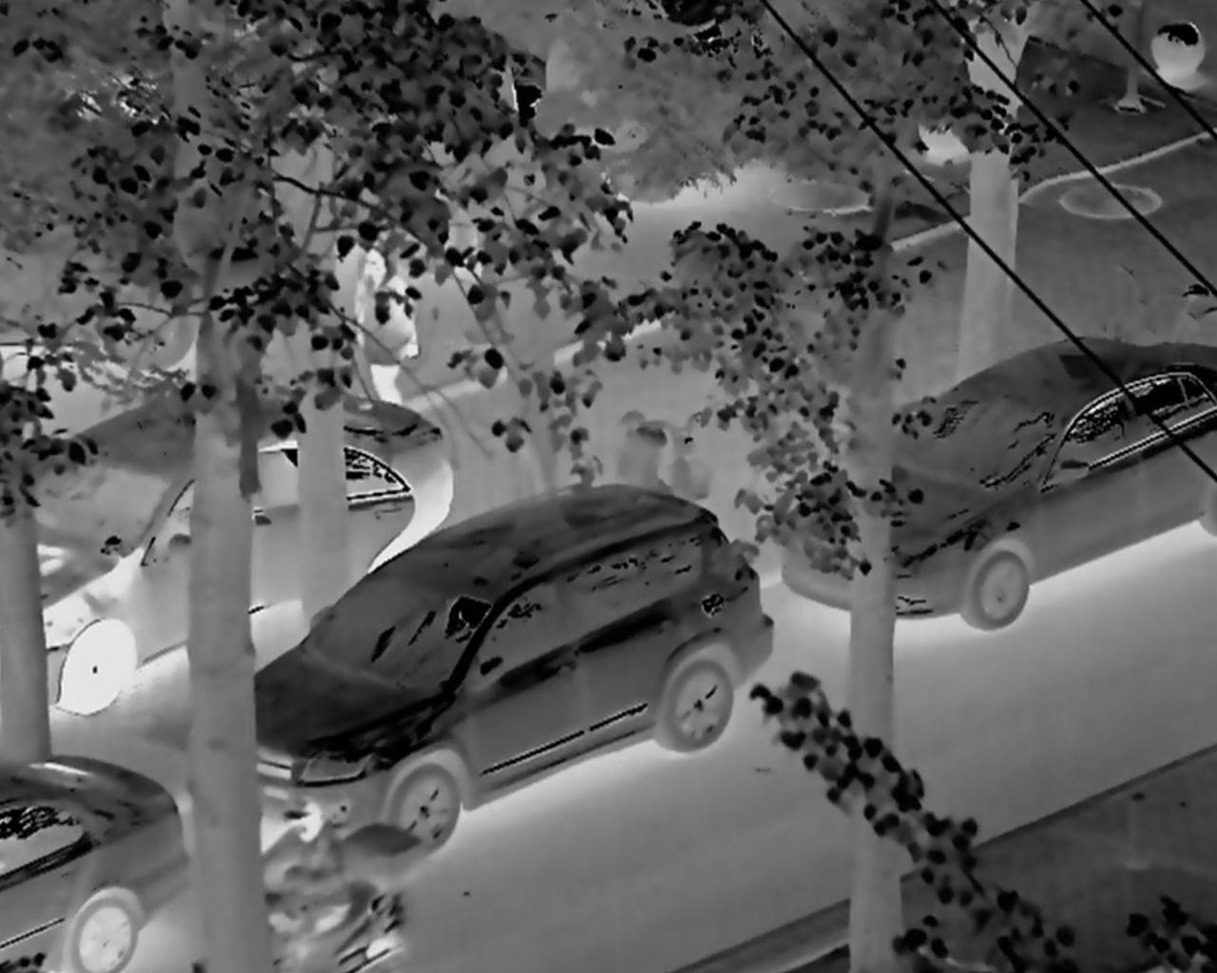person: (266, 800, 355, 961), (355, 227, 417, 422)
